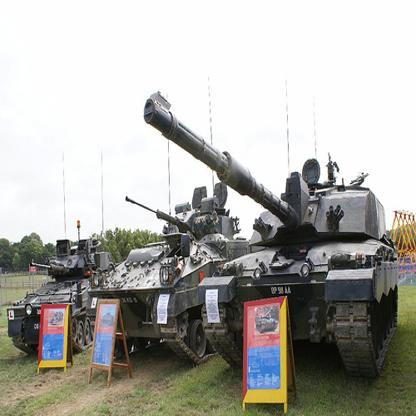Tank: (204, 126, 408, 387), (90, 159, 247, 380), (7, 218, 117, 367)
